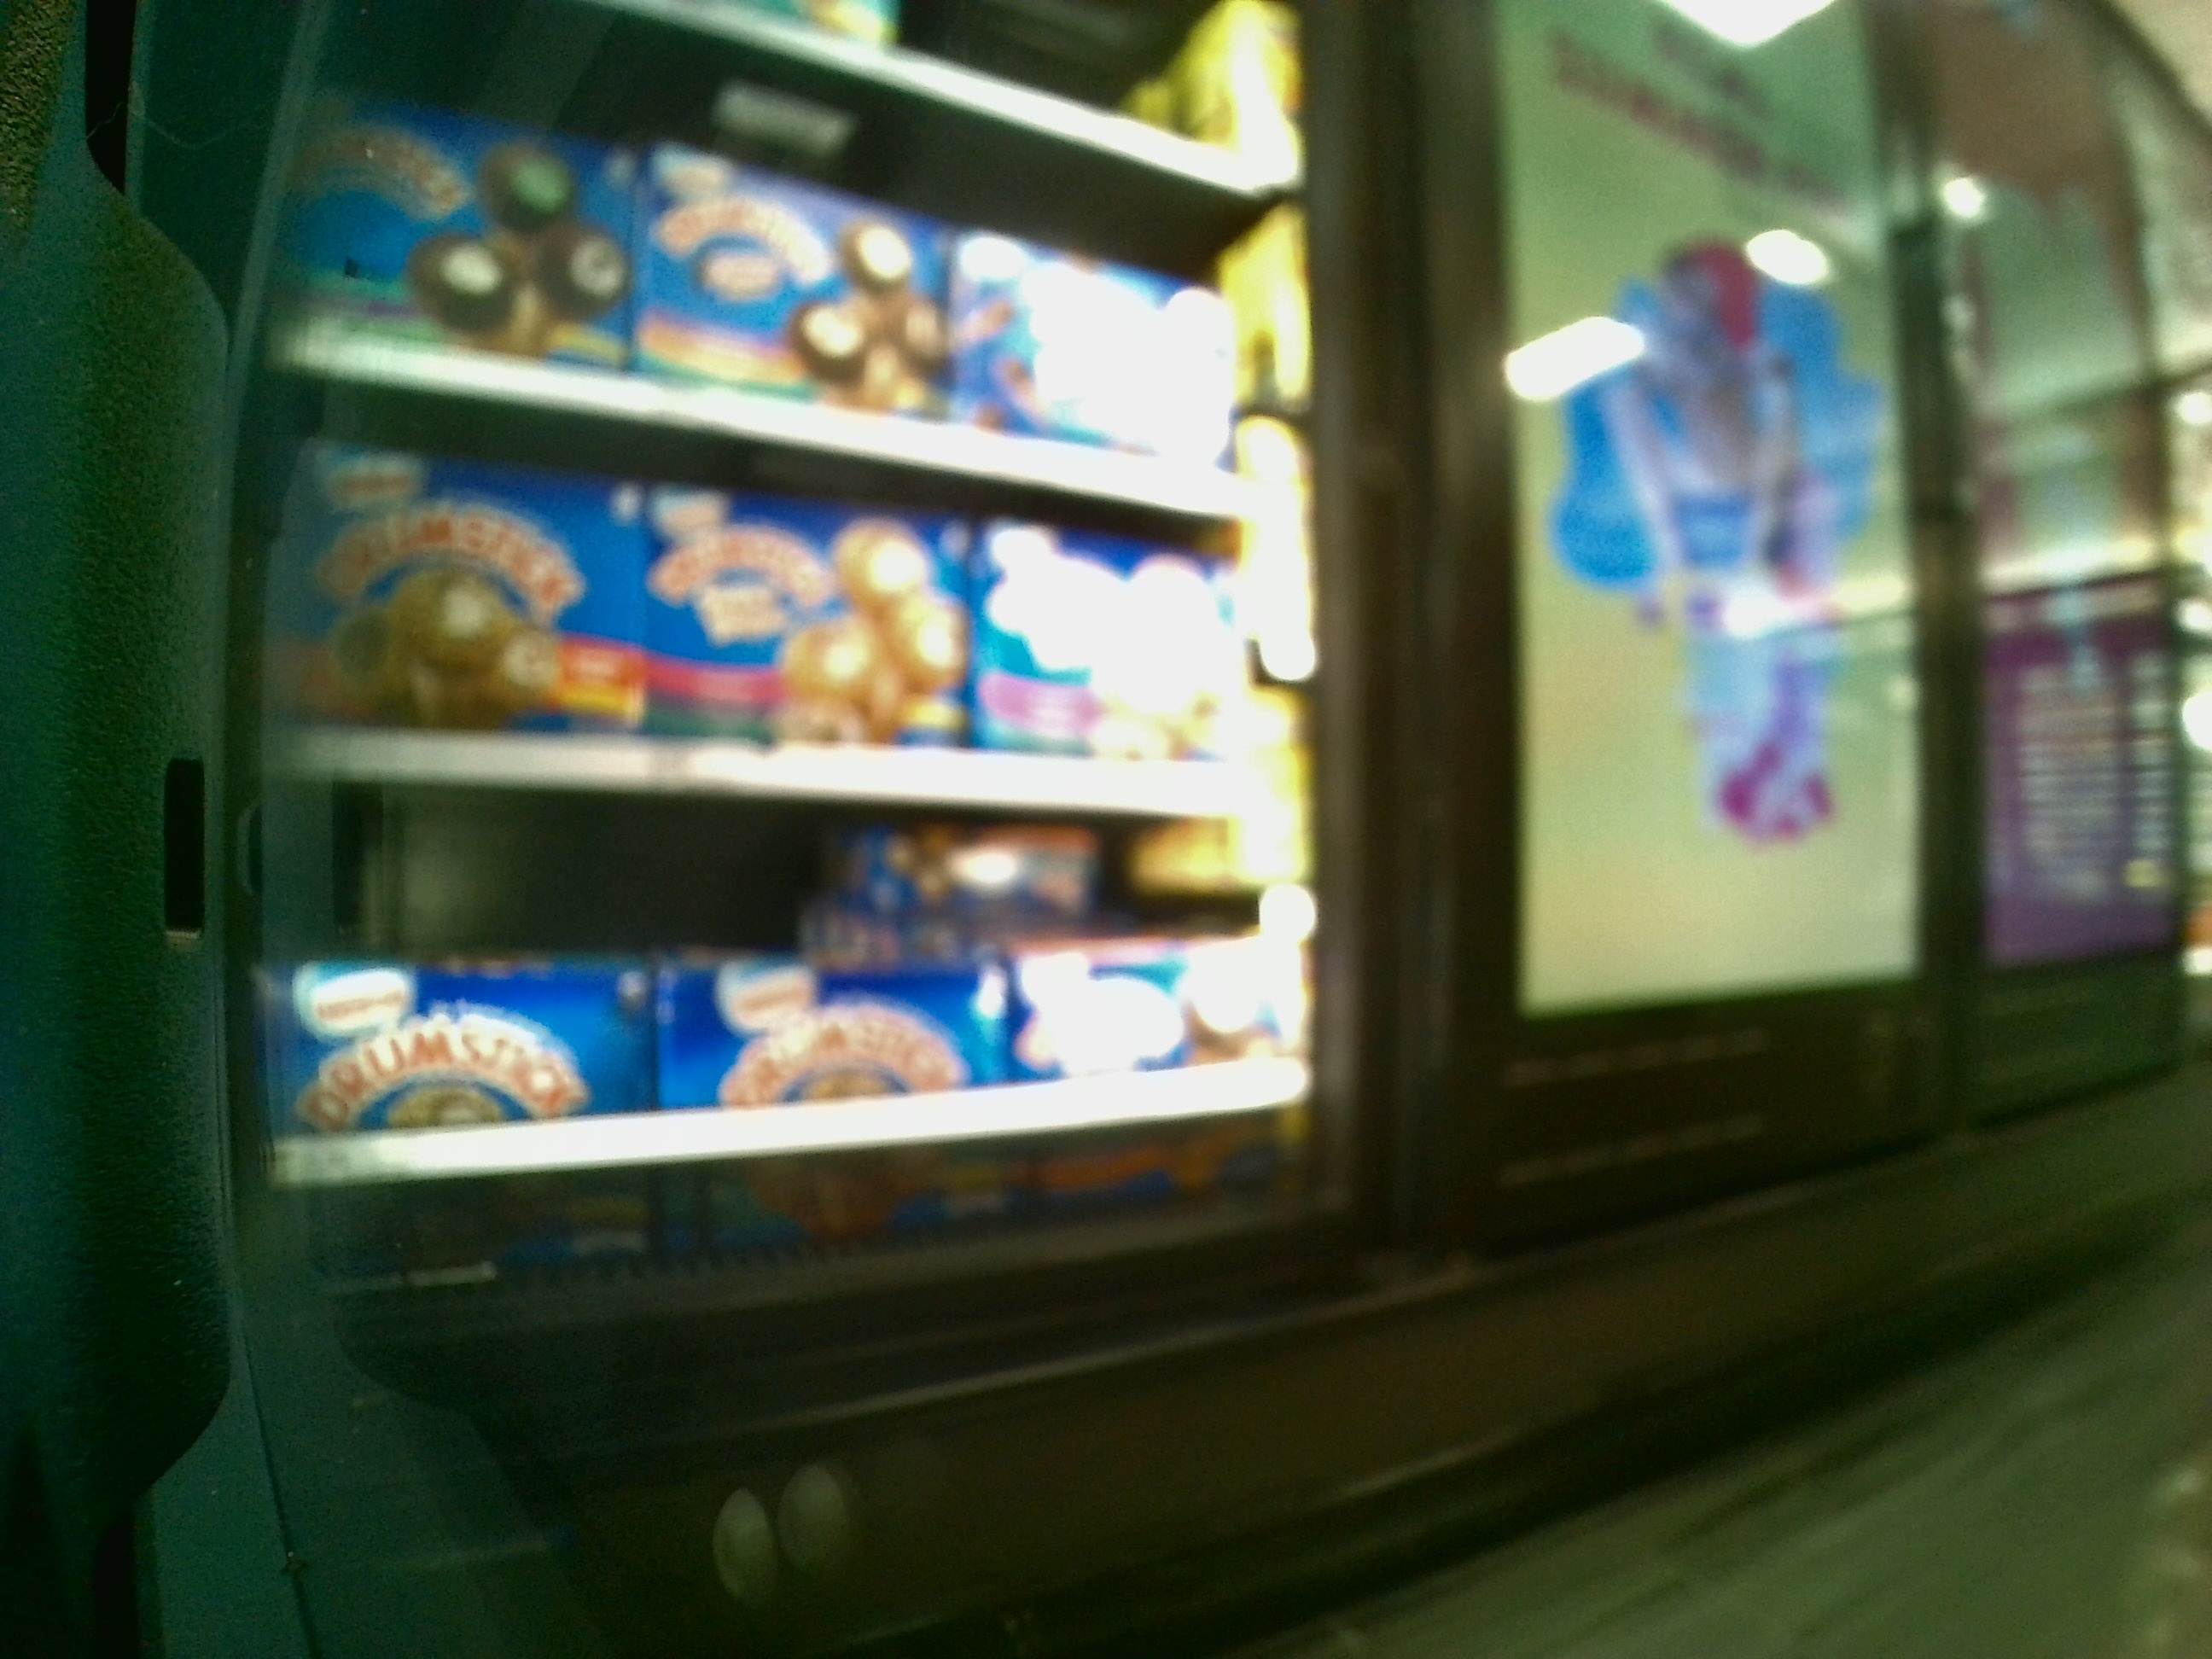shelf: (272, 821, 1305, 1239)
